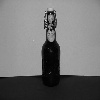beer: (41, 8, 65, 94)
